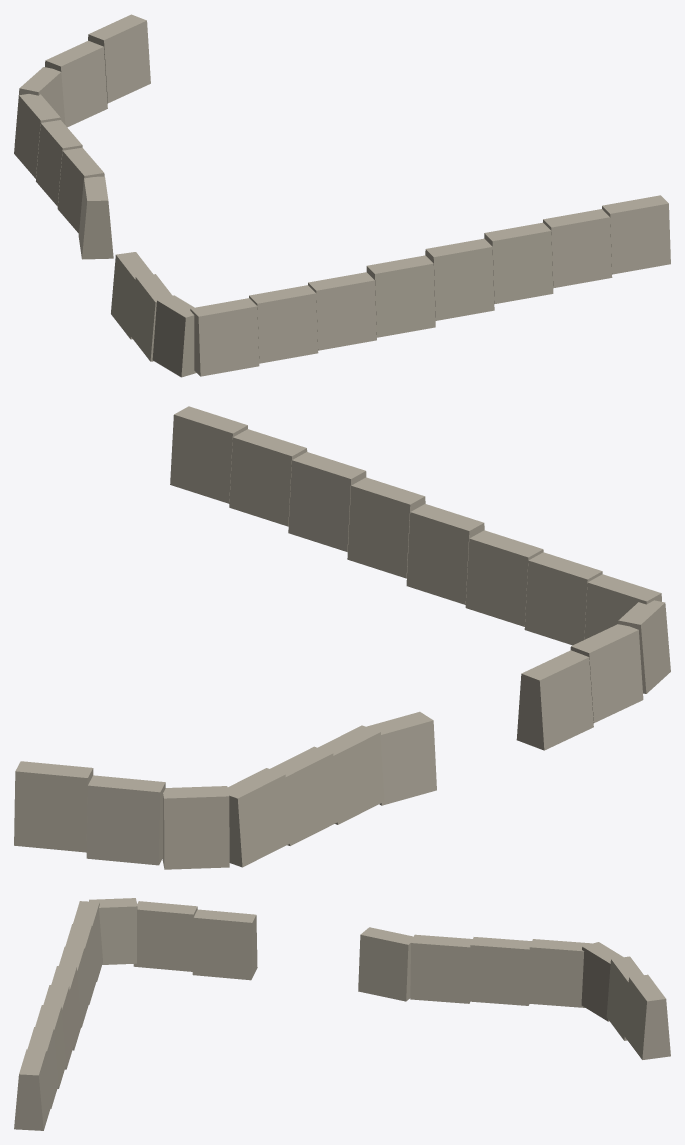
The model's file is bormla_58_32_mid.glb.
3 views of the same model, one above another, from view 1: azimuth 30°, elevation 25°; view 2: azimuth 150°, elevation 25°; view 3: azimuth 270°, elevation 25° (orthographic). The views are drawn at different scales.
Visible parts, largest first — view 1: geometry_0; view 2: geometry_0; view 3: geometry_0.
Boxes of the visible parts, box(x1,y1,x2,y2) form: geometry_0: box(14, 14, 670, 377); geometry_0: box(14, 406, 670, 869); geometry_0: box(14, 898, 670, 1130).
Bounding box in the file's own units: 99.53 × 20.31 × 131.
